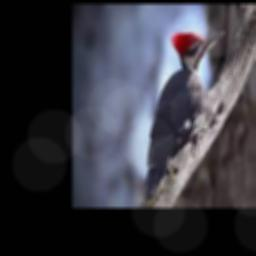Woodpecker: (145, 30, 224, 199)
